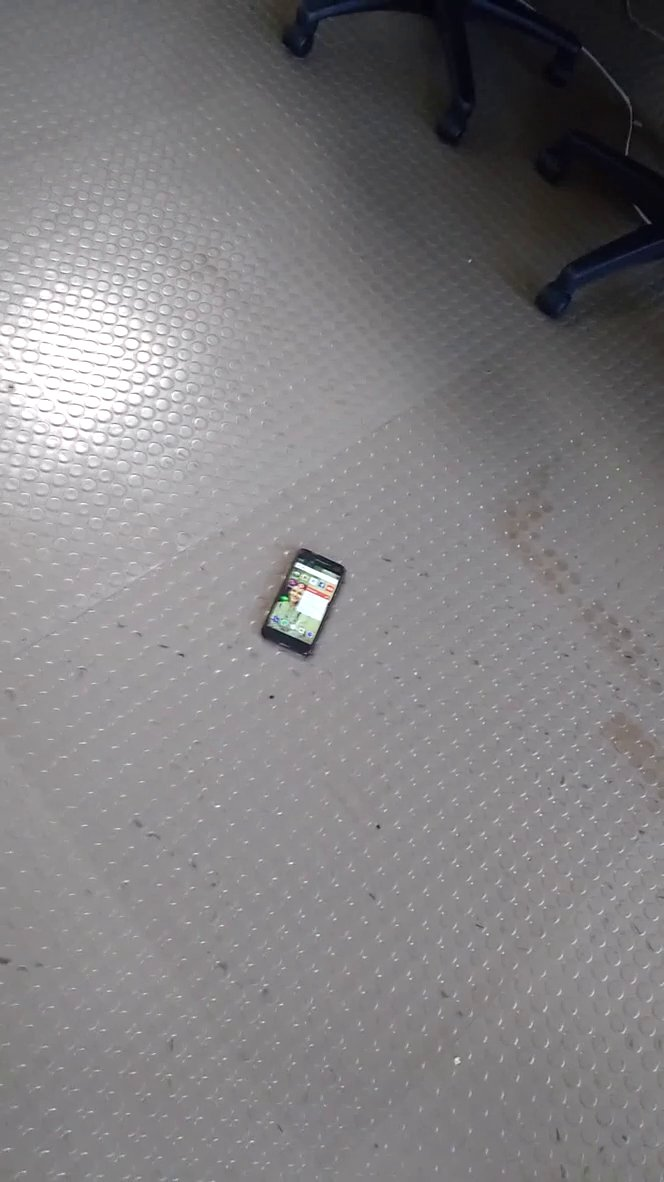phone: (255, 536, 354, 663)
